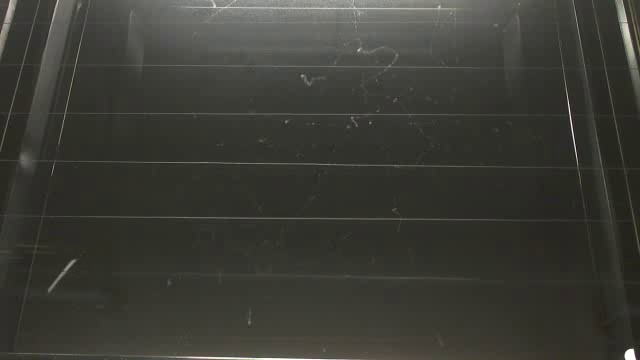Alfa: (45, 256, 78, 297)
